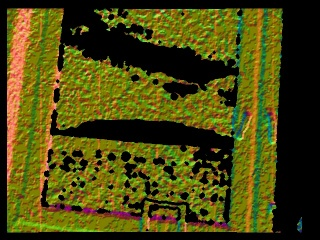station: (139, 198, 188, 234)
